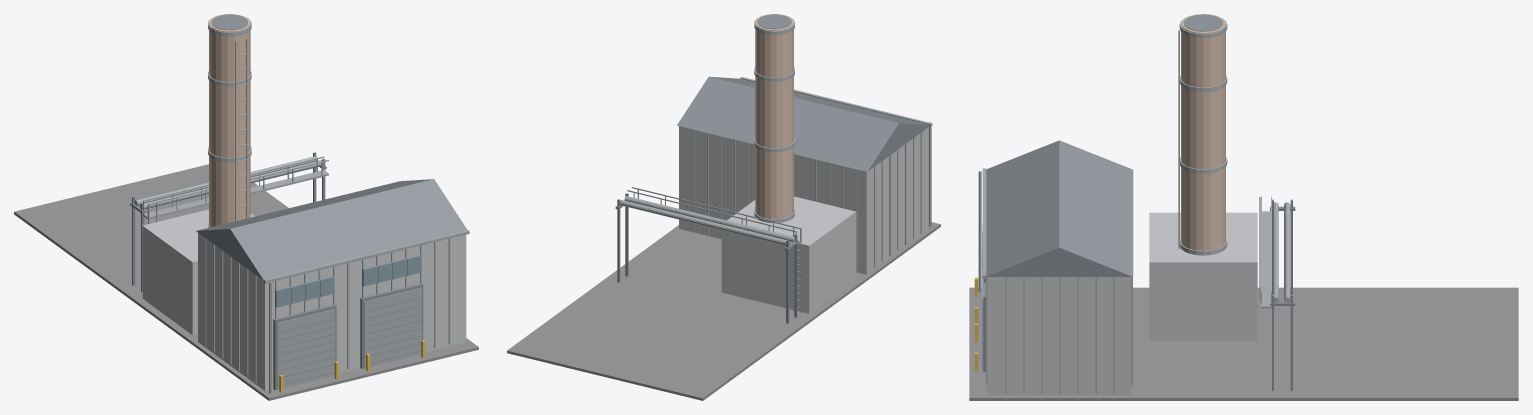
Rendered from industrial_2x4.glb.
3 renders of one model, left to right at view 1: azimuth 30°, elevation 25°; view 2: azimuth 150°, elevation 25°; view 3: azimuth 270°, elevation 25°, orthographic. The views are drawn at different scales.
Visible parts, largest first — view 1: industrial_2x4_yard; view 2: industrial_2x4_yard; view 3: industrial_2x4_yard.
Part boxes in pixels (x1,y1,x2,y2): industrial_2x4_yard: (14,14,478,400); industrial_2x4_yard: (507,14,940,400); industrial_2x4_yard: (969,14,1518,400).
Size of the model in its own units: 14.5 by 18.64 by 30.5.
